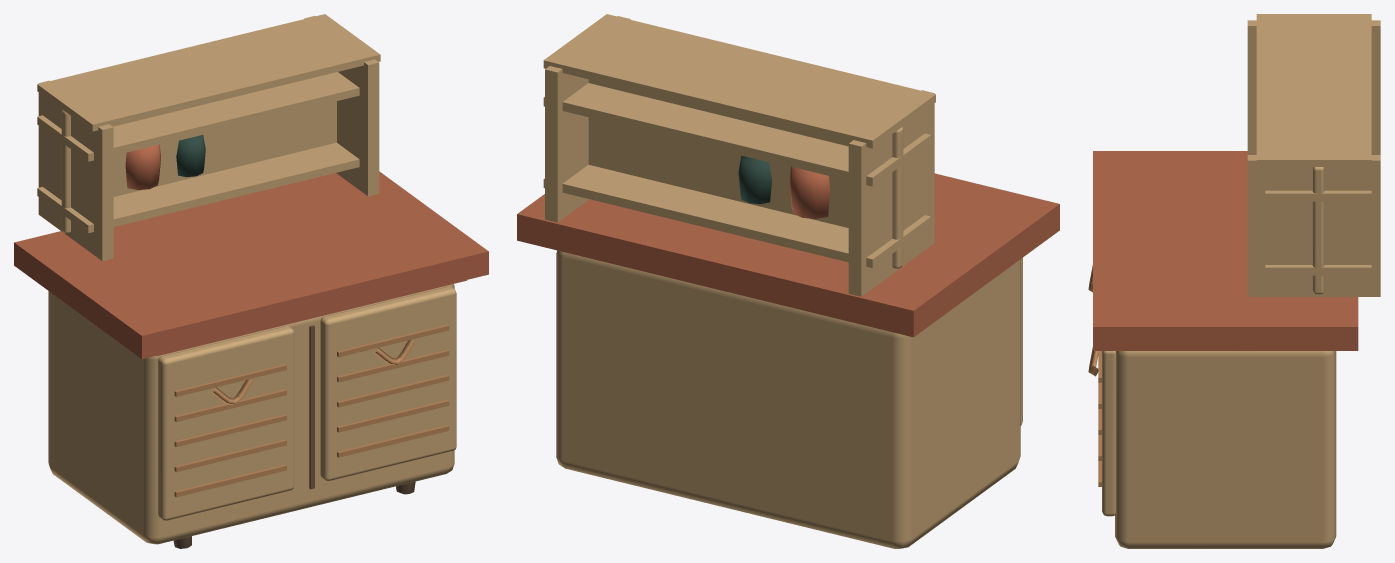
File: kitchencabinet.glb
The picture shows the model from 3 angles, left to right: view 1: azimuth 30°, elevation 25°; view 2: azimuth 150°, elevation 25°; view 3: azimuth 270°, elevation 25°; orthographic projection. The views are drawn at different scales.
Parts seen in each view (by area): view 1: atelier-warm-kitchencabinet; view 2: atelier-warm-kitchencabinet; view 3: atelier-warm-kitchencabinet.
Part boxes in pixels (x1,y1,x2,y2): atelier-warm-kitchencabinet: [14, 14, 488, 548]; atelier-warm-kitchencabinet: [517, 14, 1059, 548]; atelier-warm-kitchencabinet: [1088, 14, 1380, 548].
Bounding box in the file's own units: 0.9316 × 1 × 0.6541.
